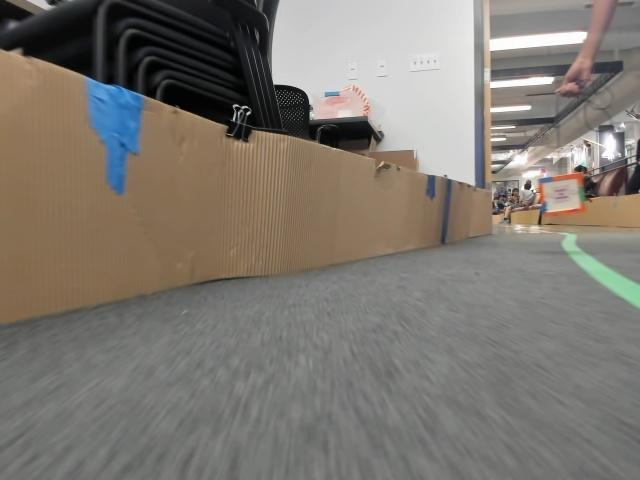Do Not Go Around: (544, 186, 575, 206)
